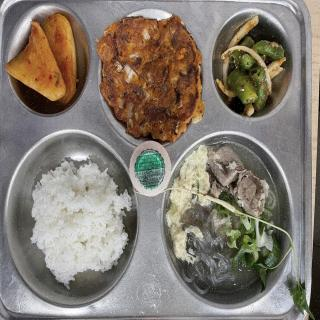Nasi: (32, 159, 133, 292)
